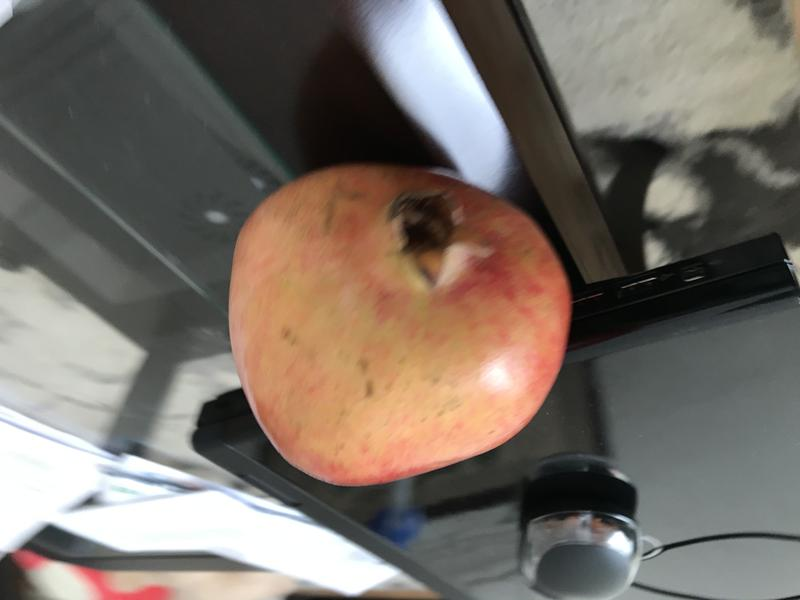pomegranate: (216, 155, 582, 496)
